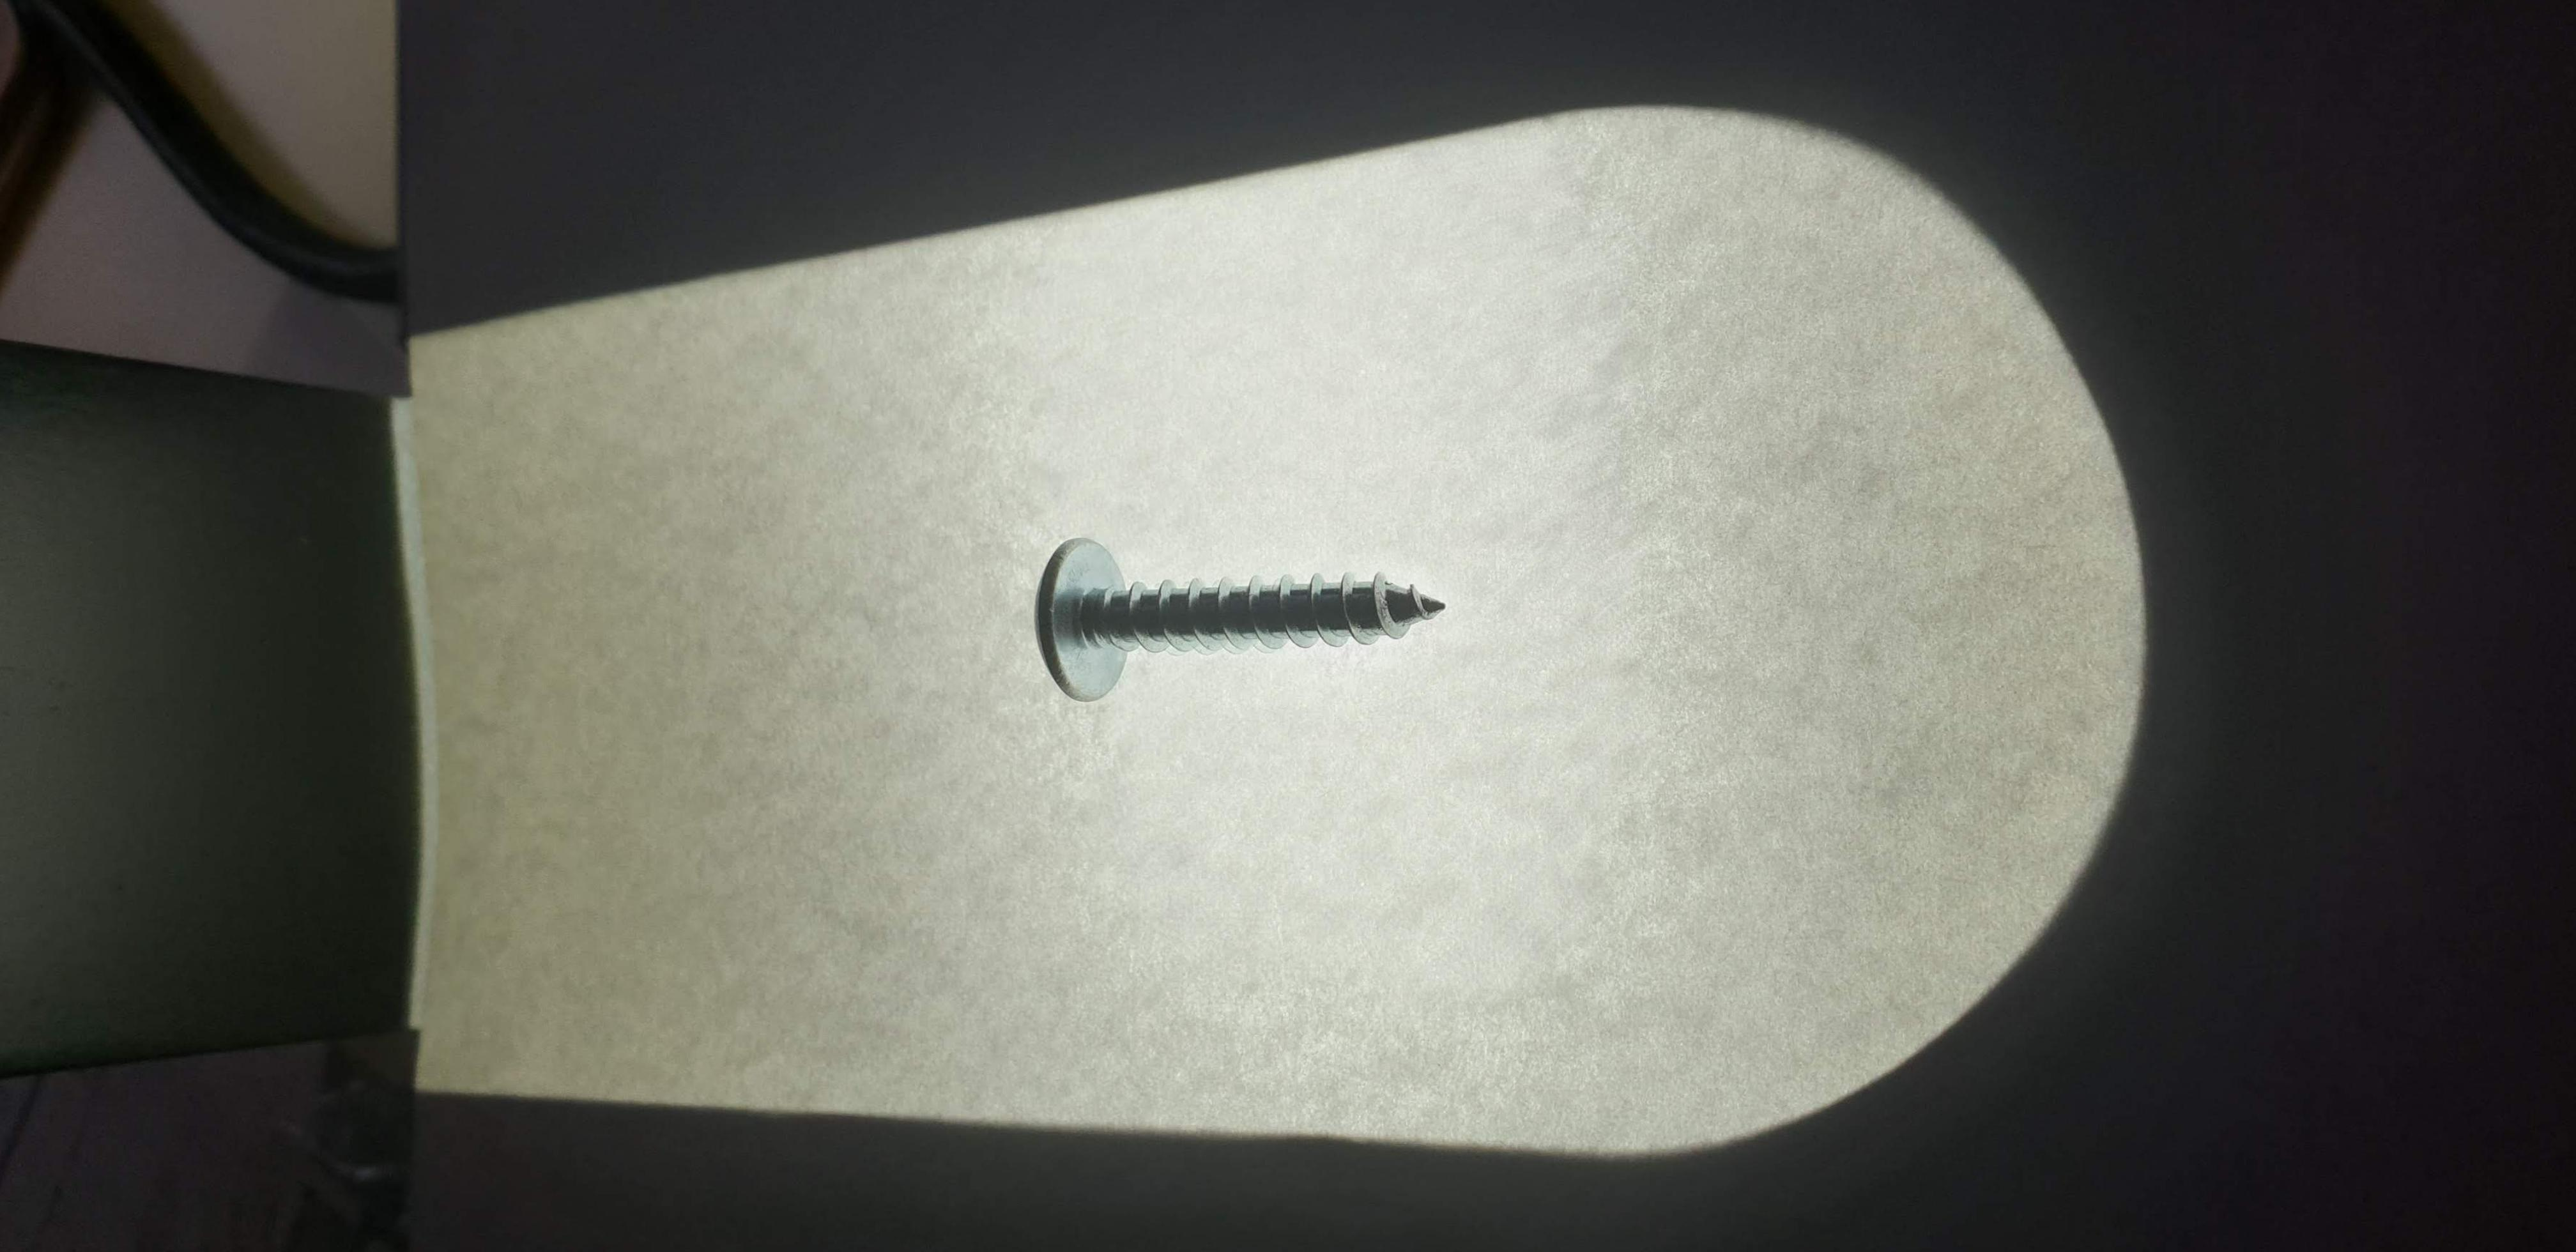S002: (956, 506, 1548, 746)
